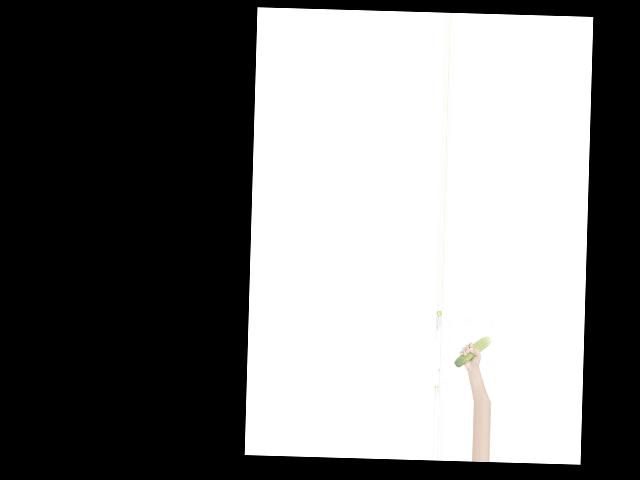cucumber: (454, 336, 490, 369)
